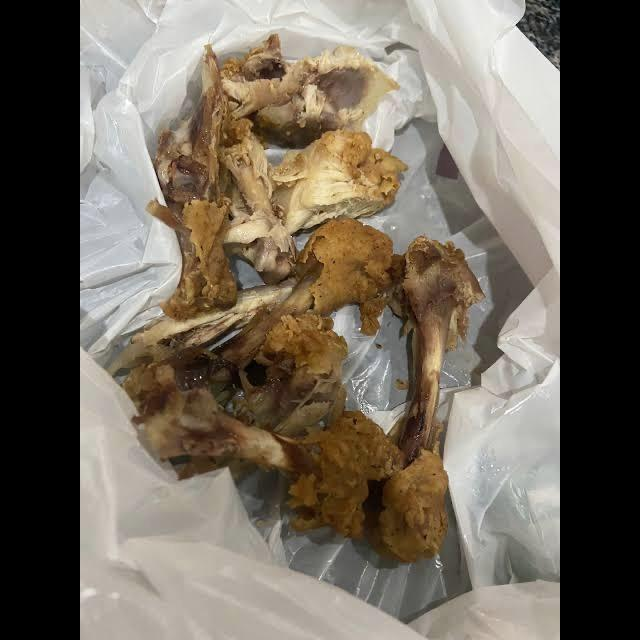left_over_food: (112, 217, 395, 440), (146, 46, 297, 321), (138, 384, 402, 537), (378, 235, 485, 565), (220, 43, 401, 150), (268, 130, 409, 238)
